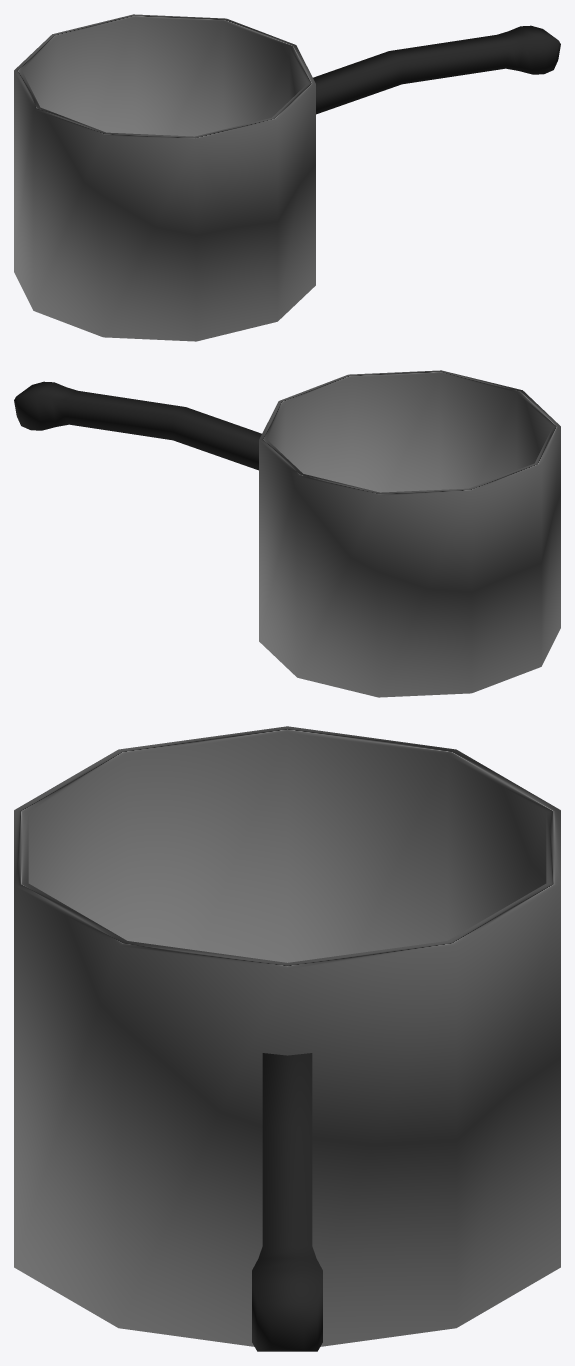
Rendered from pot.fbx.
The picture shows the model from 3 angles, top to bottom: view 1: azimuth 30°, elevation 25°; view 2: azimuth 150°, elevation 25°; view 3: azimuth 270°, elevation 25°; orthographic projection. The views are drawn at different scales.
Visible parts, largest first — view 1: pot; view 2: pot; view 3: pot.
Boxes of the visible parts, <box> form: pot: <box>14,14,560,341</box>; pot: <box>14,370,560,697</box>; pot: <box>14,726,560,1351</box>.
Size of the model in its own units: 44.23 by 16.29 by 21.14.
